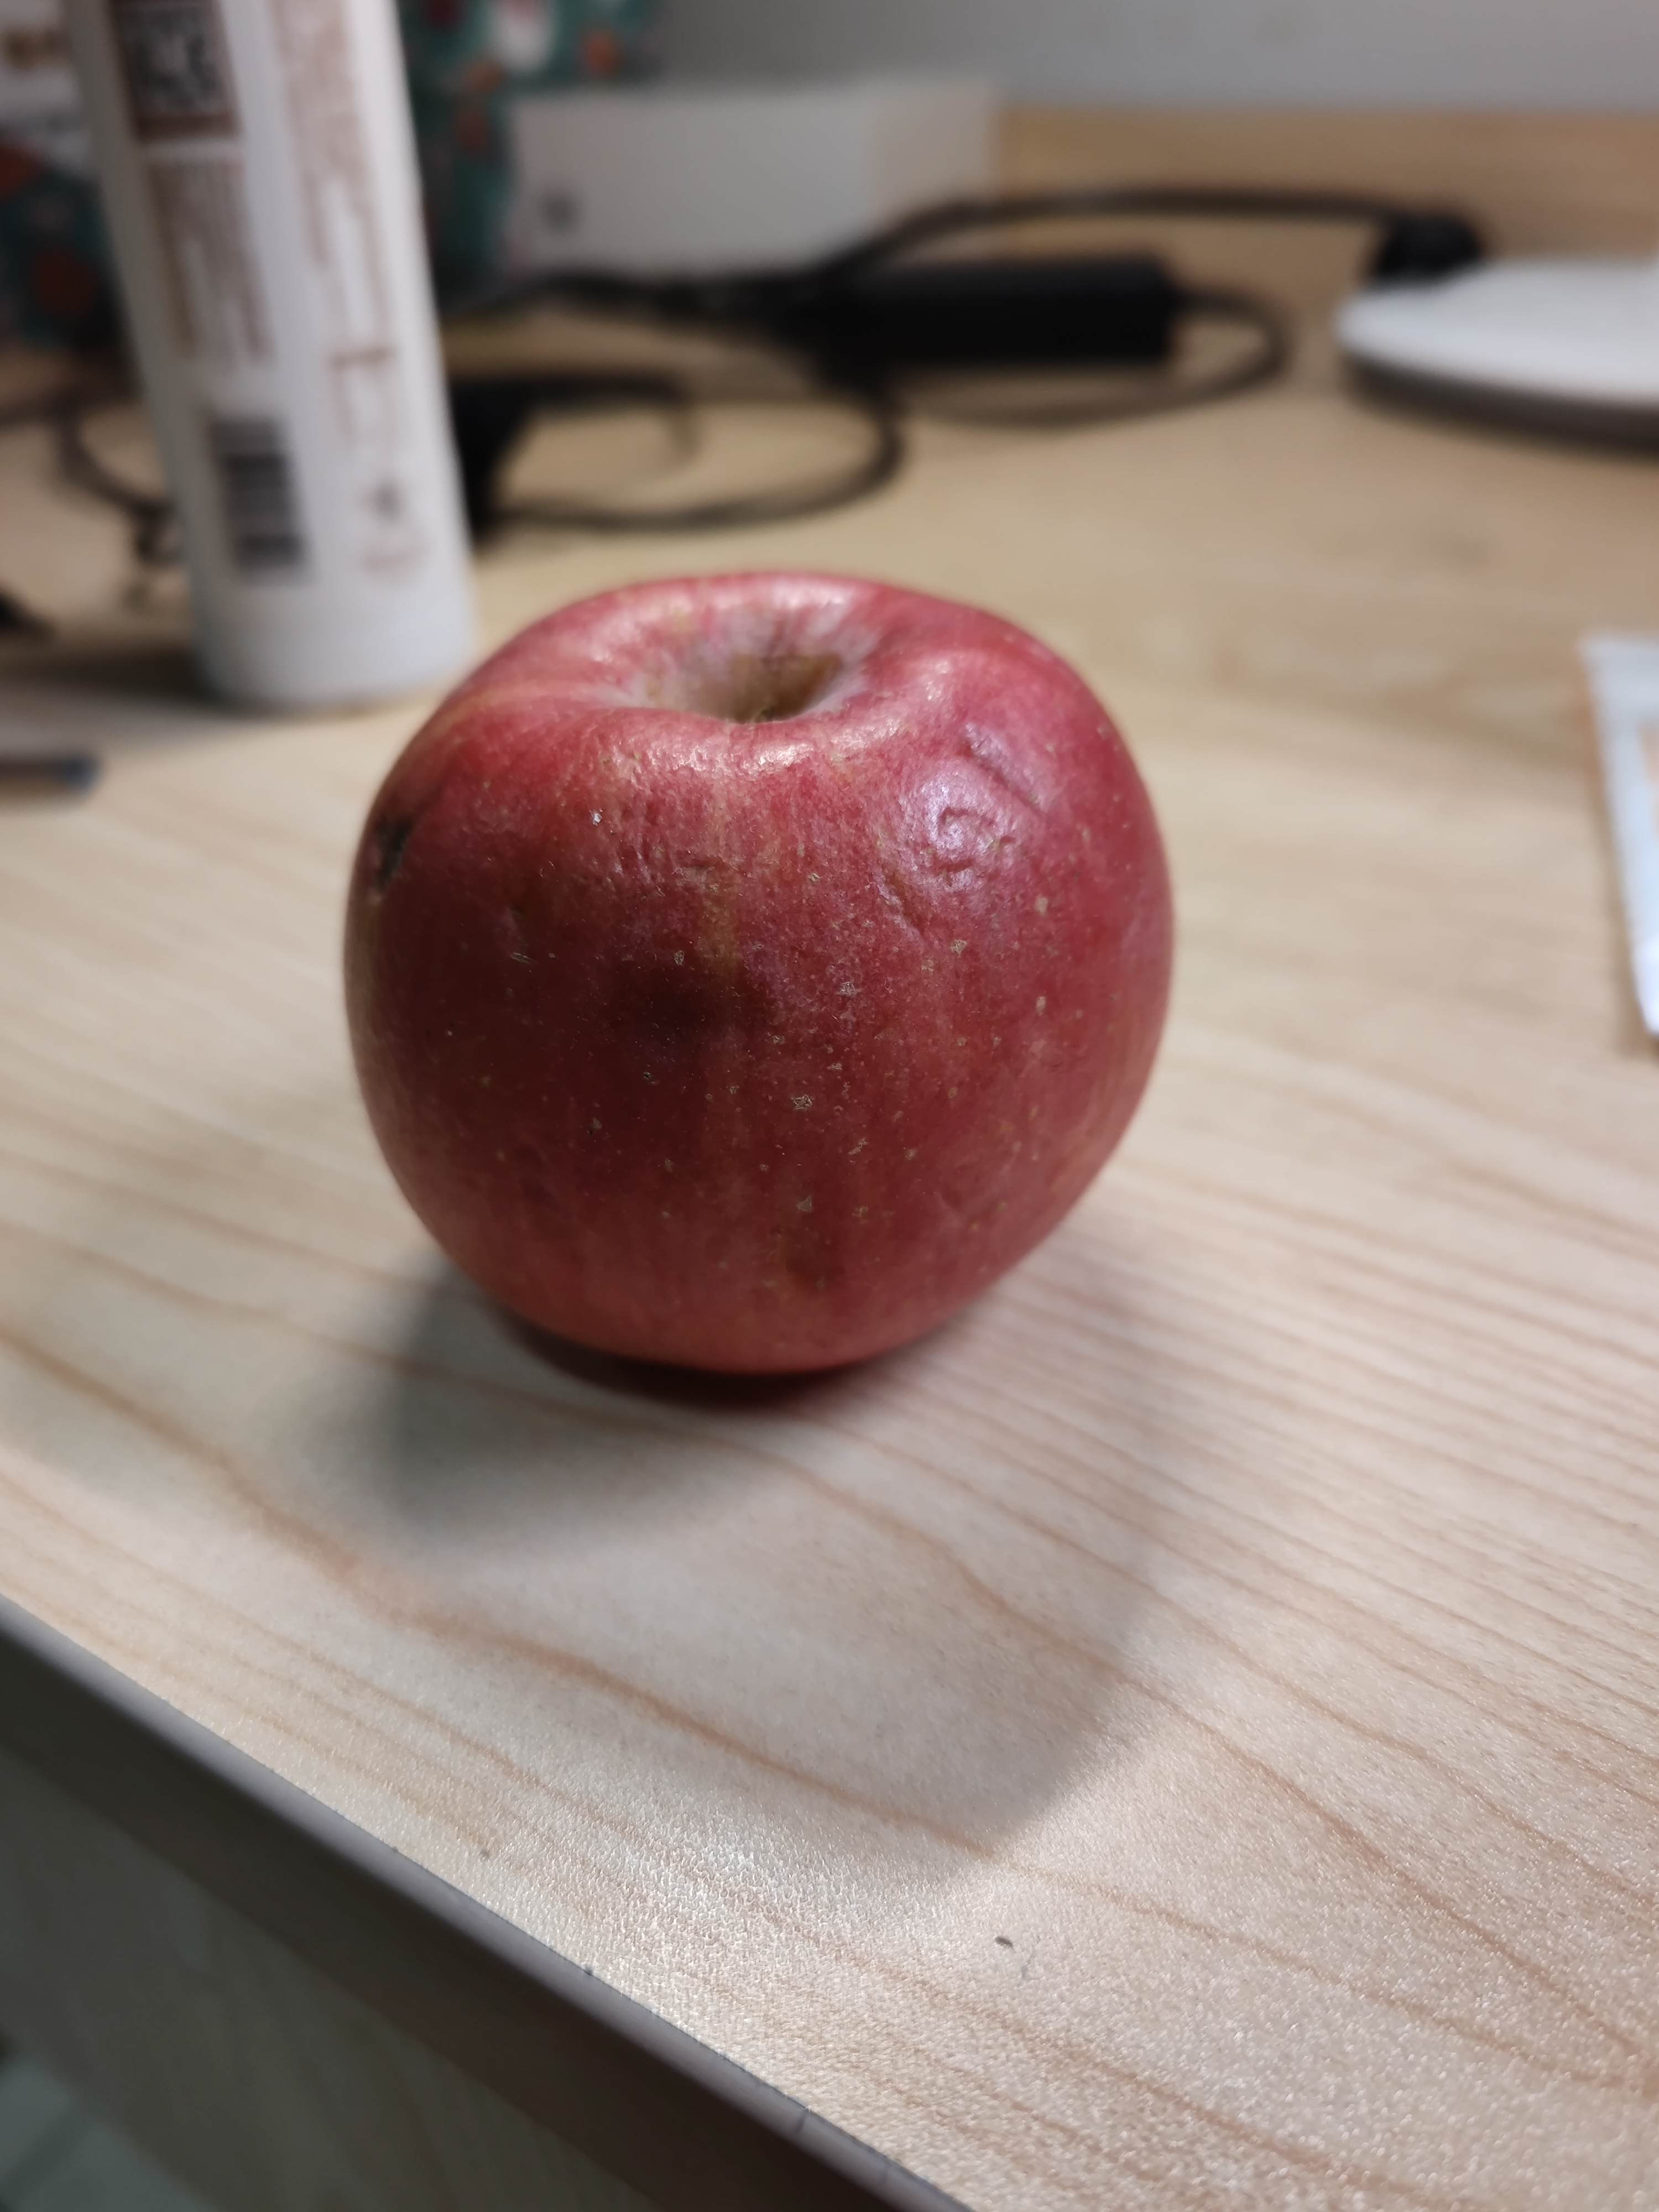apple: (322, 571, 1190, 1399)
